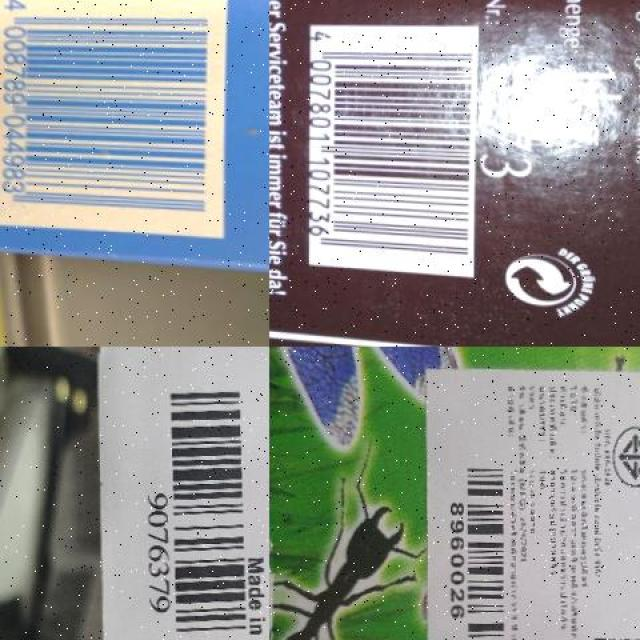Barcode: (0, 0, 230, 240), (306, 25, 478, 279), (146, 376, 258, 640), (451, 449, 512, 640)
